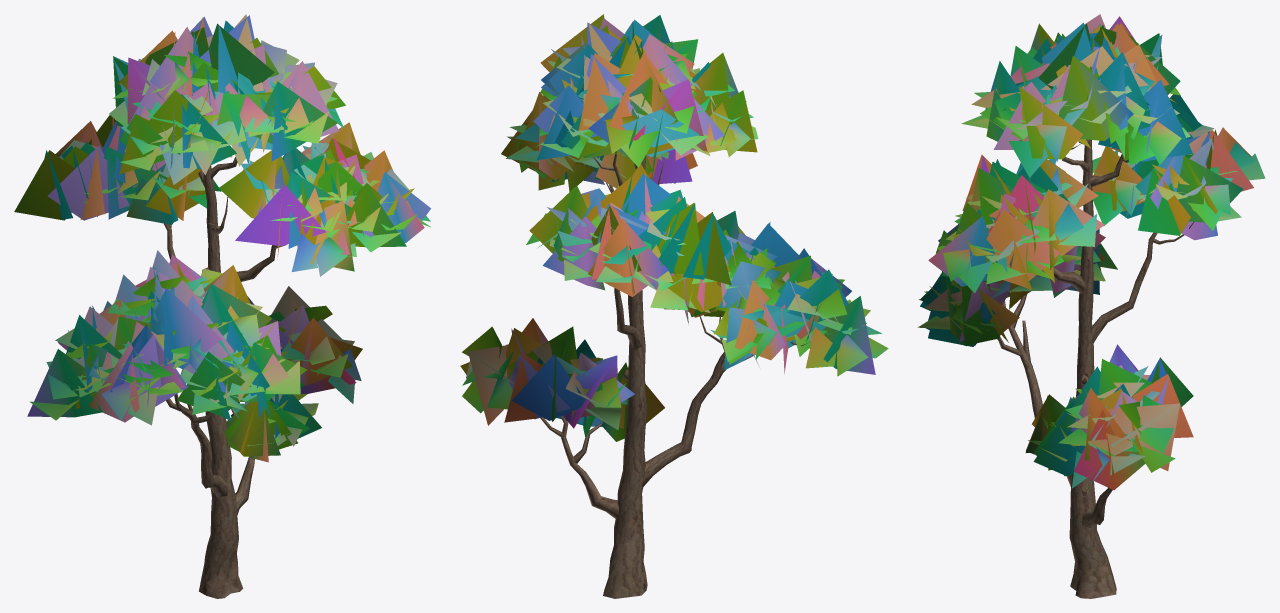
File: Homeworld_Exterior_Dq_Plant_Pt_01_Lod0.fbx
3 views of the same model, side by side, from view 1: azimuth 30°, elevation 25°; view 2: azimuth 150°, elevation 25°; view 3: azimuth 270°, elevation 25° (orthographic).
Parts seen in each view (by area): view 1: Area_Dq_Tree_Common_Pt_02_01_Leaf_Lod0, Area_Dq_Tree_Common_Pt_02_01_Bark_Lod0; view 2: Area_Dq_Tree_Common_Pt_02_01_Leaf_Lod0, Area_Dq_Tree_Common_Pt_02_01_Bark_Lod0; view 3: Area_Dq_Tree_Common_Pt_02_01_Leaf_Lod0, Area_Dq_Tree_Common_Pt_02_01_Bark_Lod0.
Boxes of the visible parts, left/top/right/bottom form: Area_Dq_Tree_Common_Pt_02_01_Leaf_Lod0: left=14, top=14, right=430, bottom=462; Area_Dq_Tree_Common_Pt_02_01_Bark_Lod0: left=164, top=157, right=286, bottom=598; Area_Dq_Tree_Common_Pt_02_01_Leaf_Lod0: left=460, top=14, right=888, bottom=441; Area_Dq_Tree_Common_Pt_02_01_Bark_Lod0: left=540, top=151, right=810, bottom=598; Area_Dq_Tree_Common_Pt_02_01_Leaf_Lod0: left=918, top=14, right=1265, bottom=490; Area_Dq_Tree_Common_Pt_02_01_Bark_Lod0: left=987, top=139, right=1193, bottom=598.
Bounding box in the file's own units: 11.43 × 16.52 × 9.23.
